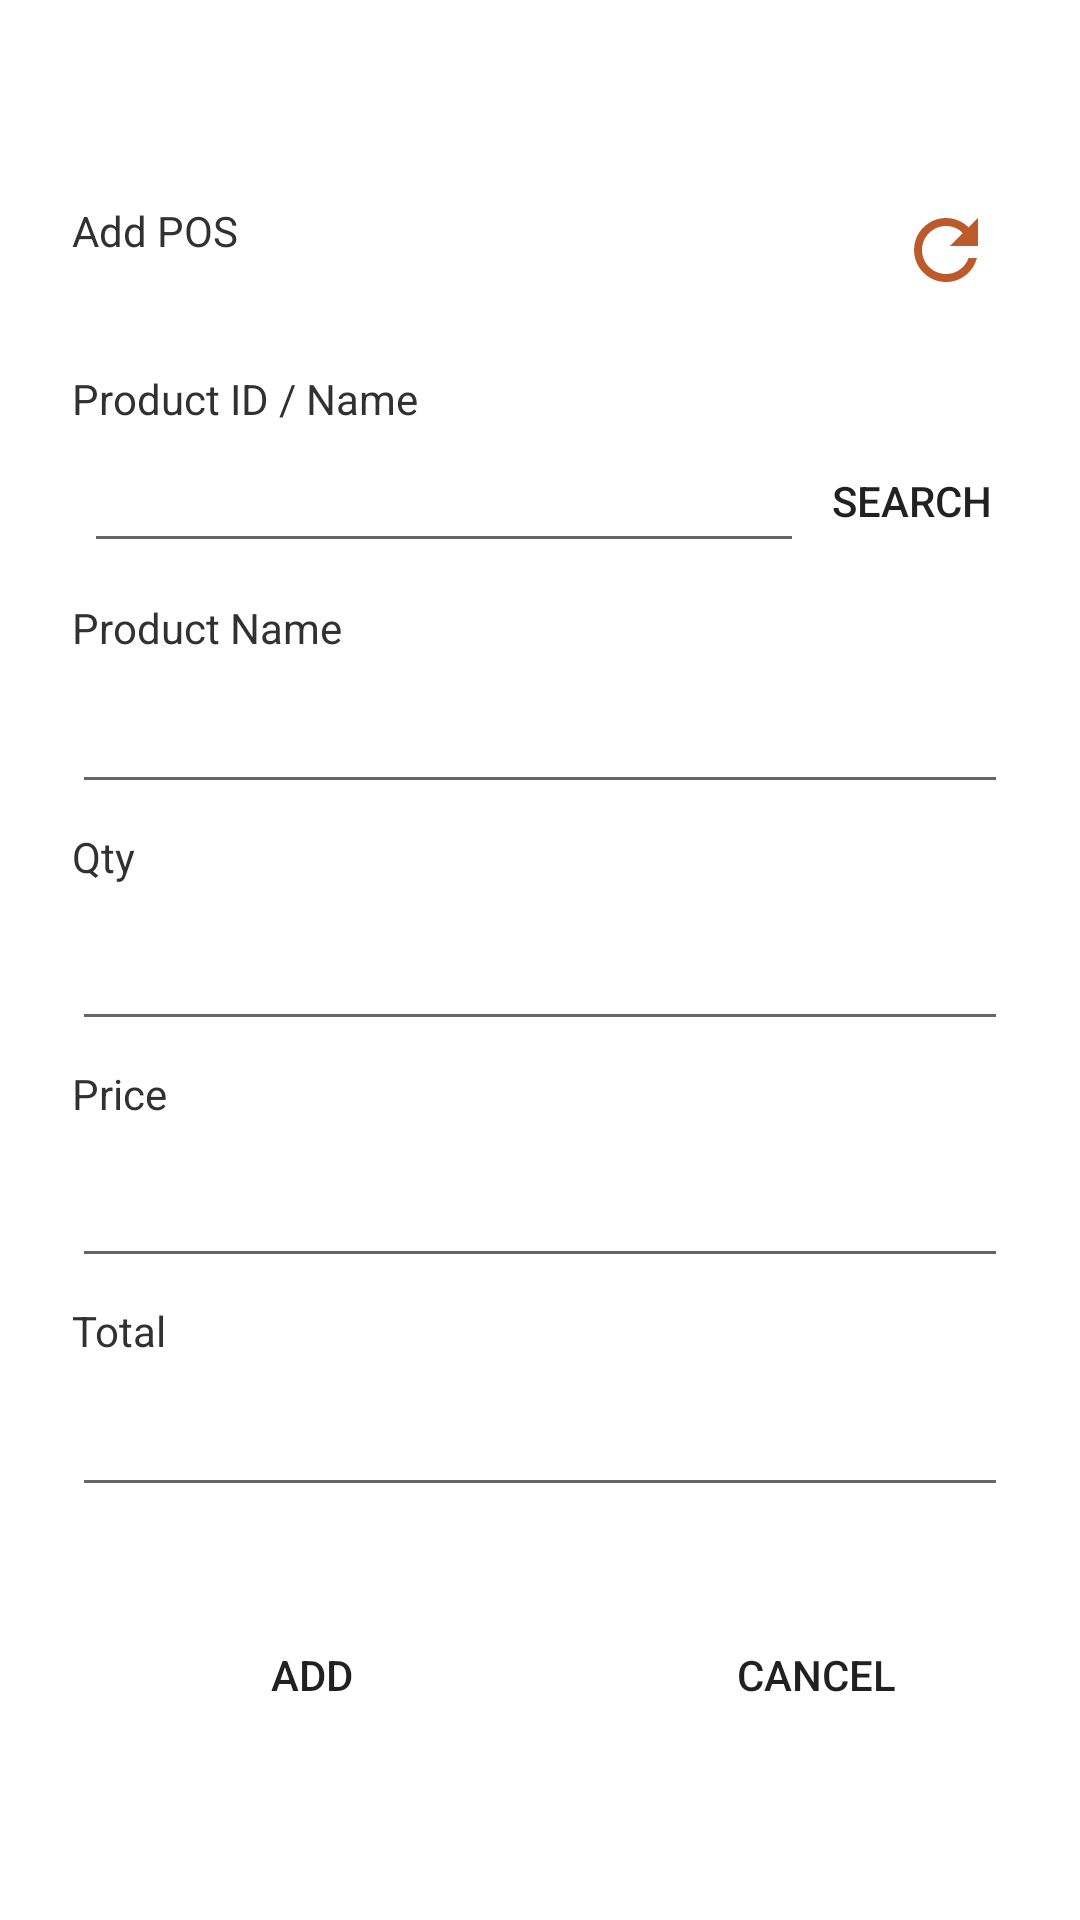

Icons on this 1080w x 1920h Android screen, each with its box as (x1, y1, x2, y2):
refresh: (914, 218, 978, 282)
